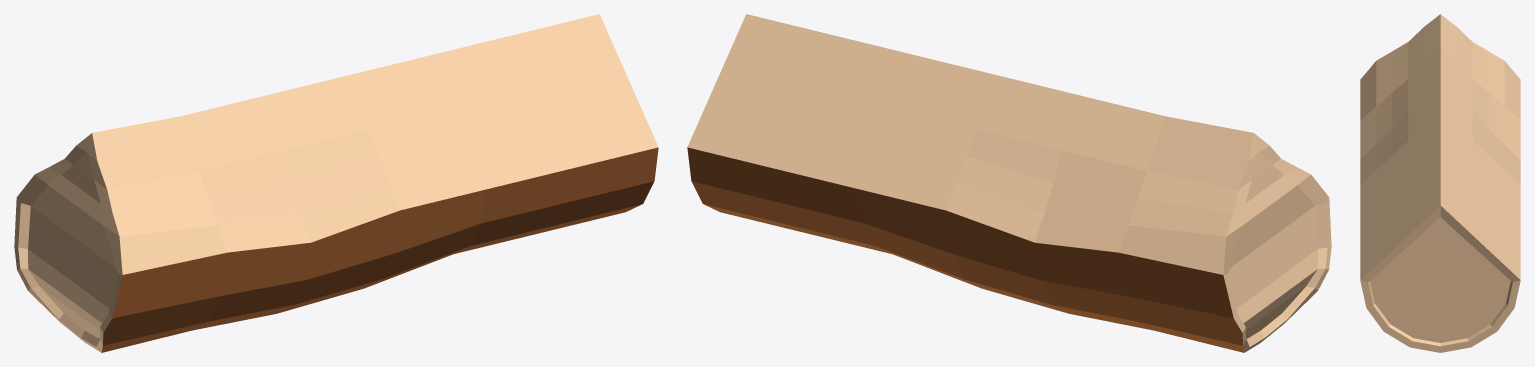
Rendered from woods.fbx.
The picture shows the model from 3 angles, left to right: view 1: azimuth 30°, elevation 25°; view 2: azimuth 150°, elevation 25°; view 3: azimuth 270°, elevation 25°; orthographic projection. The views are drawn at different scales.
Visible parts, largest first — view 1: Окружность; view 2: Окружность; view 3: Окружность.
Part boxes in pixels (x1=…): Окружность: x1=14, y1=14, x2=658, y2=352; Окружность: x1=687, y1=14, x2=1331, y2=352; Окружность: x1=1360, y1=14, x2=1520, y2=352.
Size of the model in its own units: 661 by 247 by 223.
